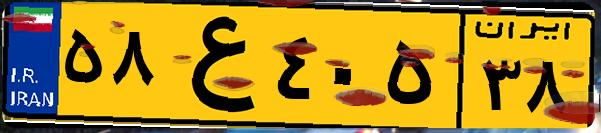0: (330, 28, 385, 110)
3: (475, 38, 525, 113)
4: (270, 28, 330, 110)
5: (385, 28, 445, 110), (57, 26, 110, 100)
8: (525, 38, 570, 115), (110, 28, 158, 98)
ع: (158, 12, 270, 120)
